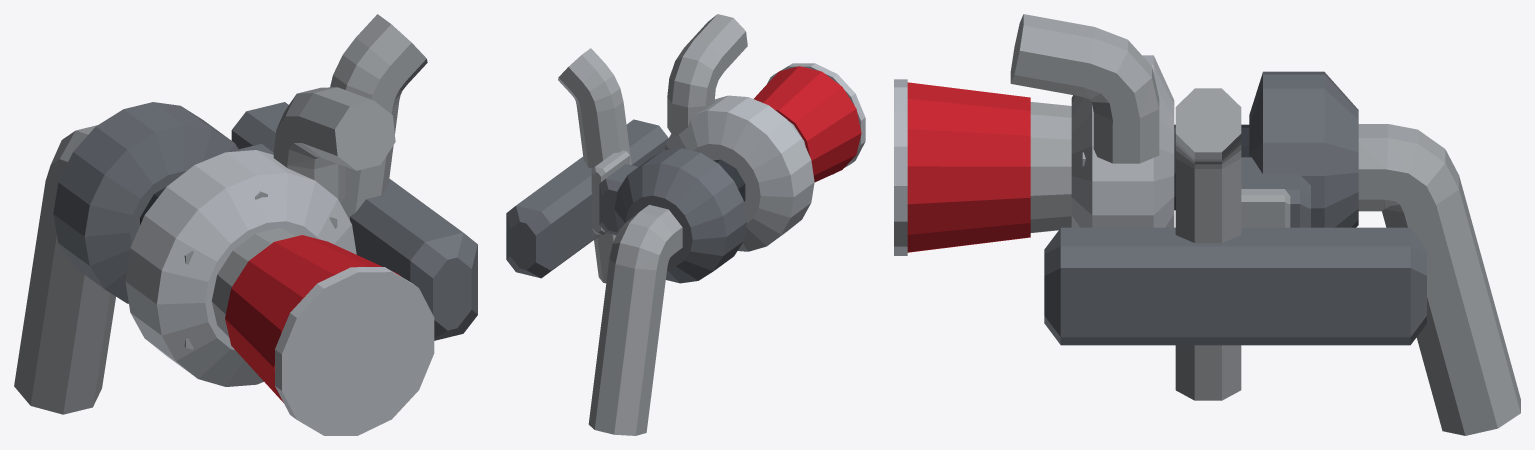
Rendered from hana_roadster.glb.
3 renders of one model, left to right at view 1: azimuth 30°, elevation 25°; view 2: azimuth 150°, elevation 25°; view 3: azimuth 270°, elevation 25°, orthographic. The views are drawn at different scales.
Visible parts, largest first — view 1: model; view 2: model; view 3: model.
Part boxes in pixels (box(x1,y1,x2,y2)): model: box(14, 14, 477, 435); model: box(506, 14, 865, 435); model: box(894, 14, 1520, 435).
Bounding box in the file's own units: 0.2675 × 0.3535 × 0.4587.
2 materials, 1 textured.
